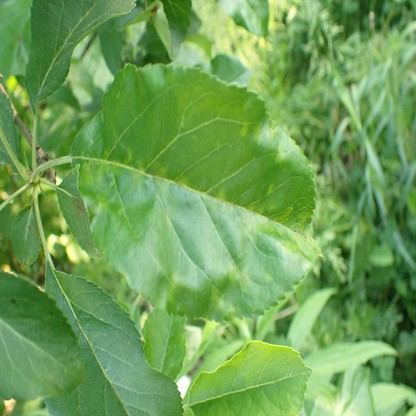scab: (211, 284, 239, 319), (78, 158, 105, 187), (242, 207, 267, 231), (229, 268, 248, 292), (162, 272, 180, 297), (293, 213, 310, 239), (70, 193, 86, 220), (152, 160, 167, 180), (273, 208, 293, 222), (211, 186, 226, 204), (131, 161, 145, 178), (254, 122, 263, 144), (104, 163, 119, 173), (176, 176, 190, 185), (240, 122, 247, 139), (125, 146, 132, 162), (243, 100, 253, 107), (265, 272, 272, 282), (268, 184, 273, 196)
